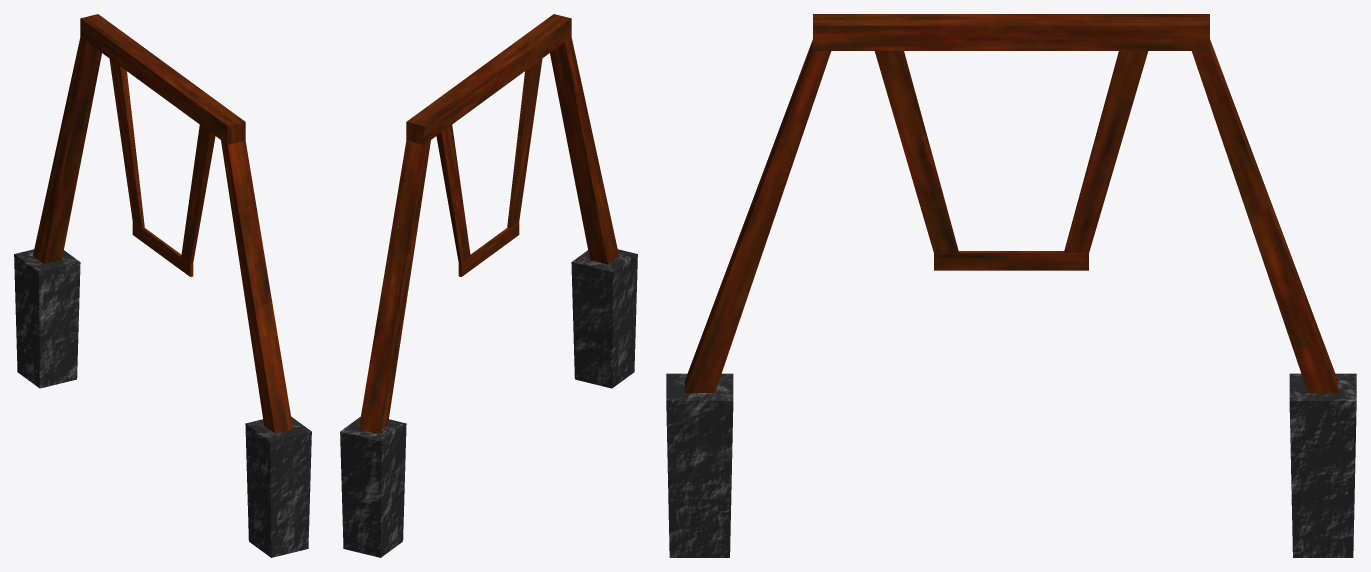
Rendered from CauldronPosts.fbx.
The picture shows the model from 3 angles, left to right: view 1: azimuth 30°, elevation 25°; view 2: azimuth 150°, elevation 25°; view 3: azimuth 270°, elevation 25°; orthographic projection. The views are drawn at different scales.
Parts seen in each view (by area): view 1: CauldonPosts; view 2: CauldonPosts; view 3: CauldonPosts.
Part boxes in pixels (x1,y1,x2,y2): CauldonPosts: (14,14,311,557); CauldonPosts: (340,14,637,557); CauldonPosts: (666,14,1356,557).
Bounding box in the file's own units: 0.875 × 7.86 × 9.35.
1 material, 1 textured.
